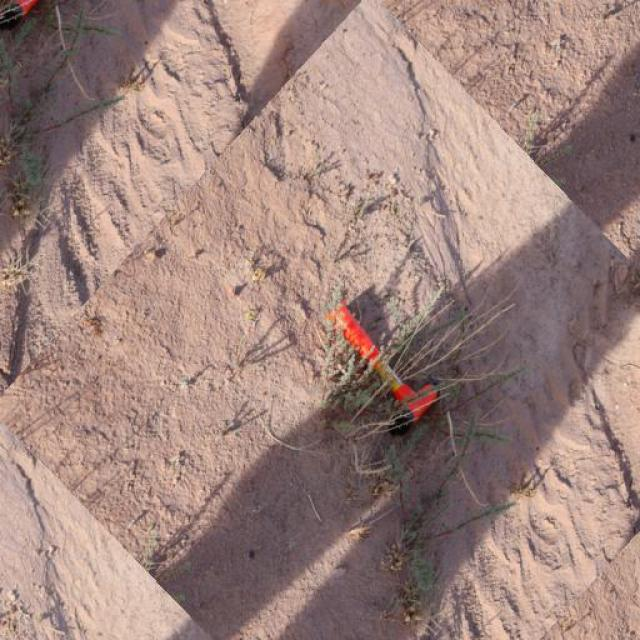mallet: (324, 298, 440, 432)
